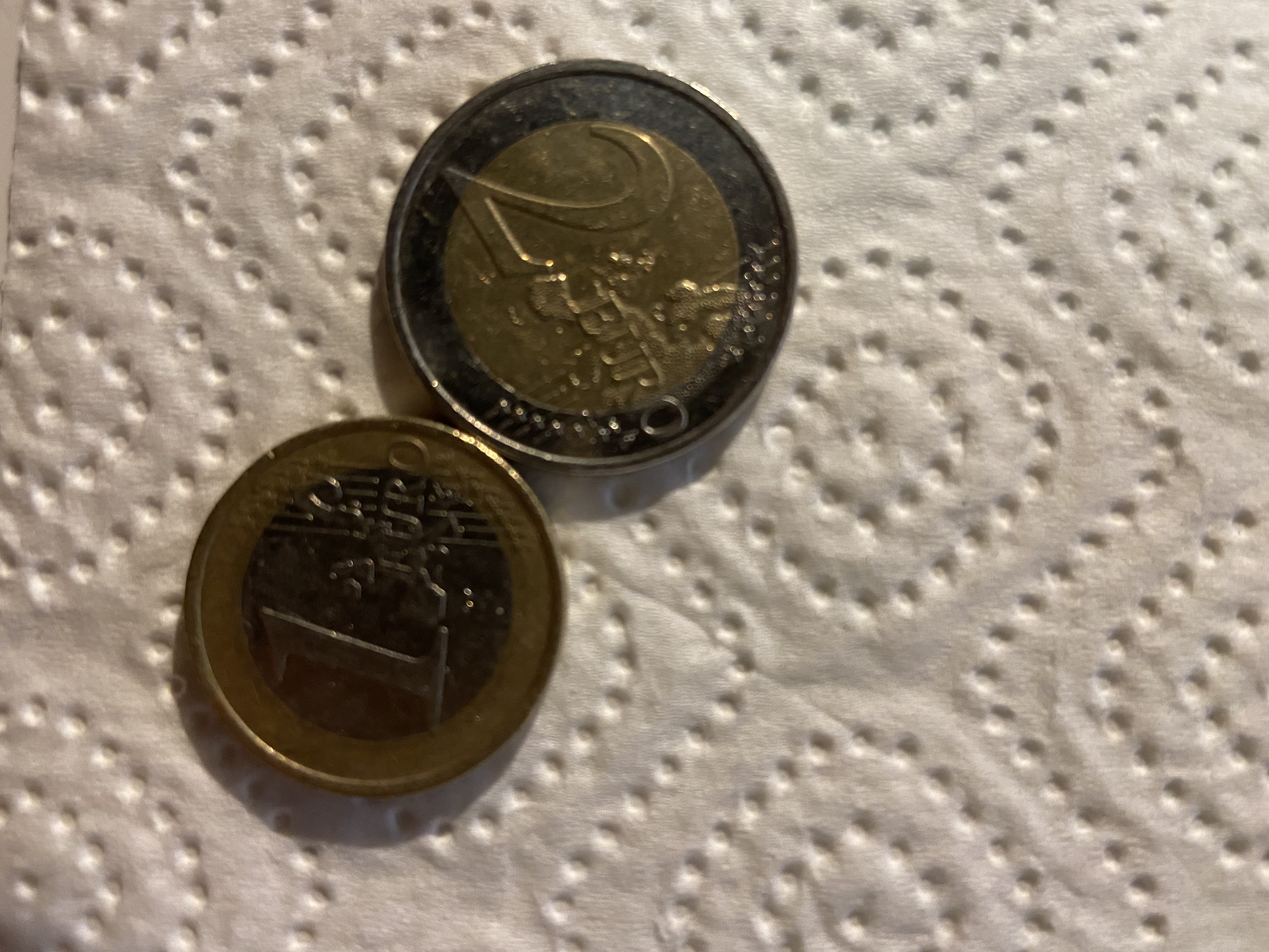1 euro: (190, 416, 565, 796)
2 euro: (377, 52, 808, 483)
